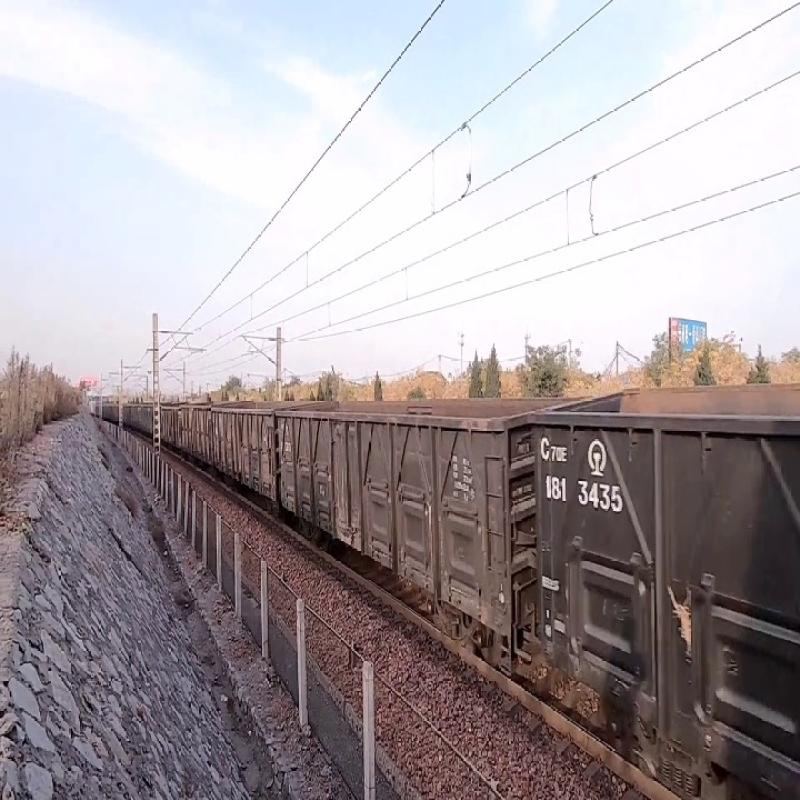train: (276, 409, 564, 670)
